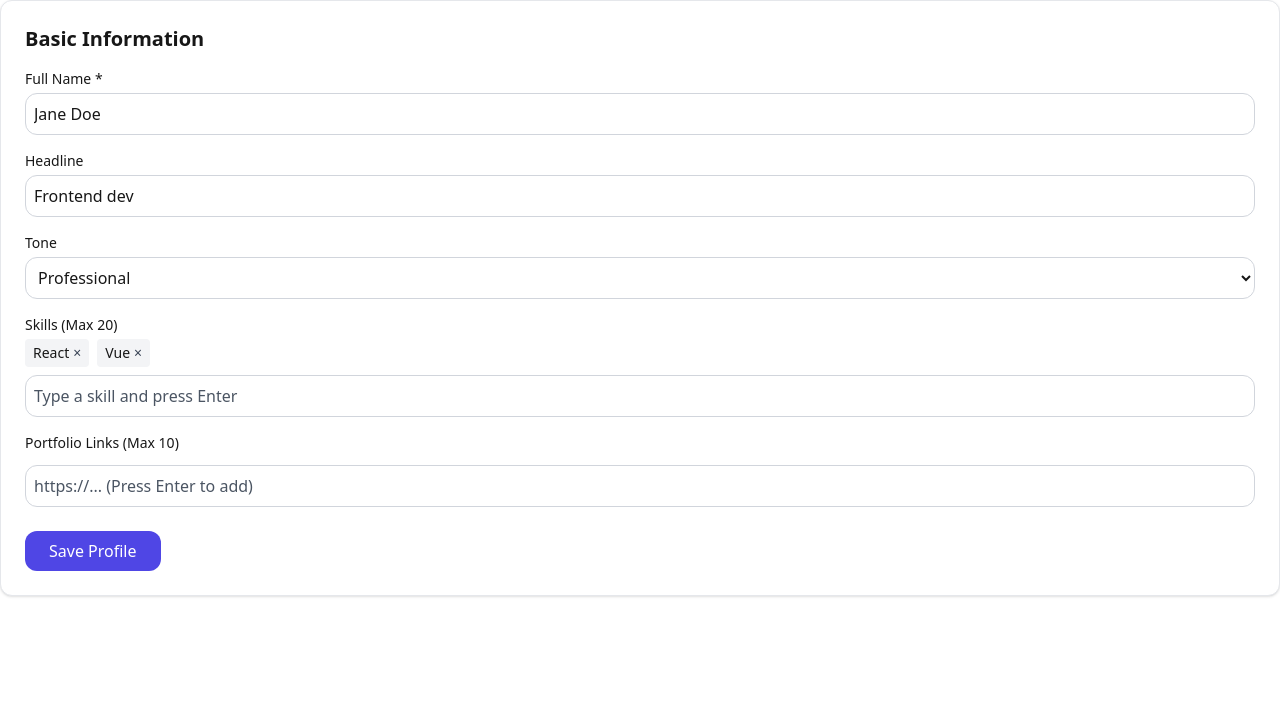
Test case: ProfileForm – skills tag input › removes a skill when × button is clicked
expect the text "React" is shown: met, box [33, 343, 69, 362]
Click the button named "Remove skill React": coordinates (77, 353) [73, 343, 81, 363]
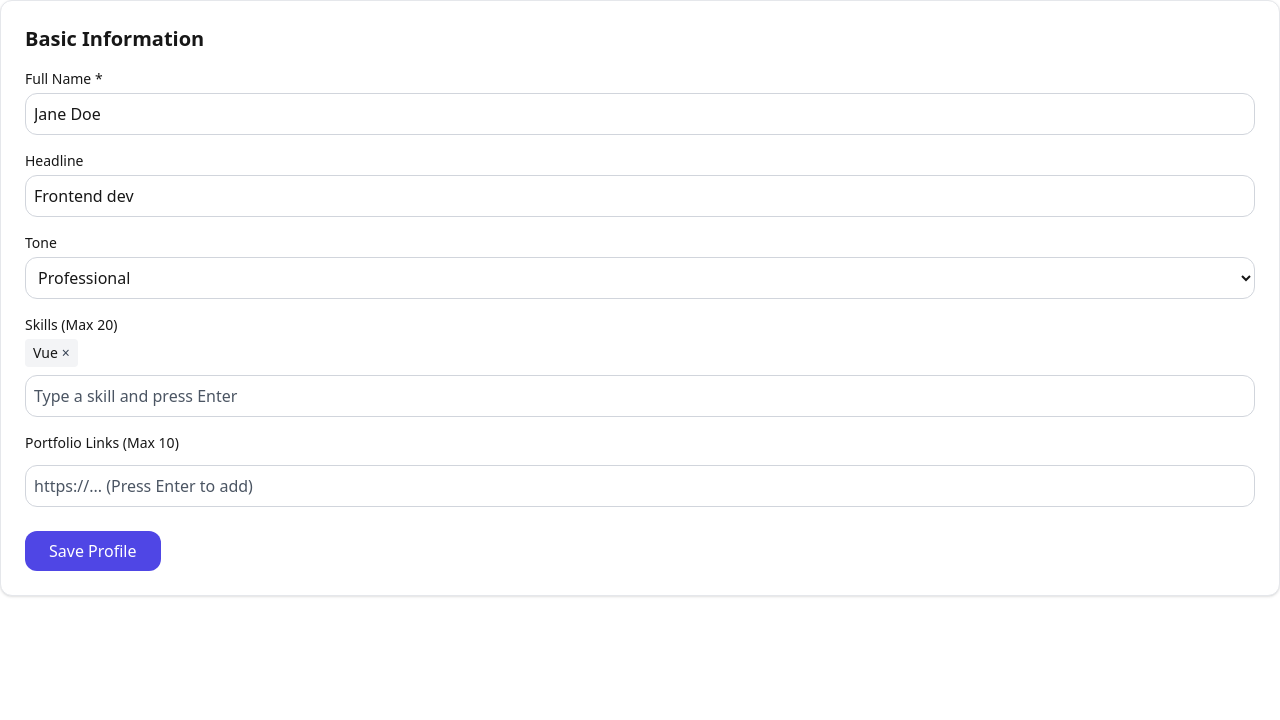
expect the text "React" is gone: met
